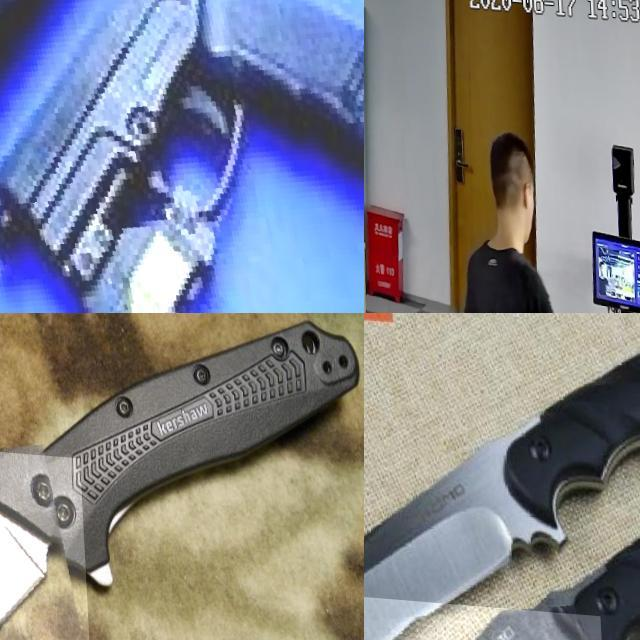-: (364, 423, 549, 640), (0, 432, 163, 640)
gun-knife-thesis - v11 Yolov5 augmented: (0, 0, 364, 313)
